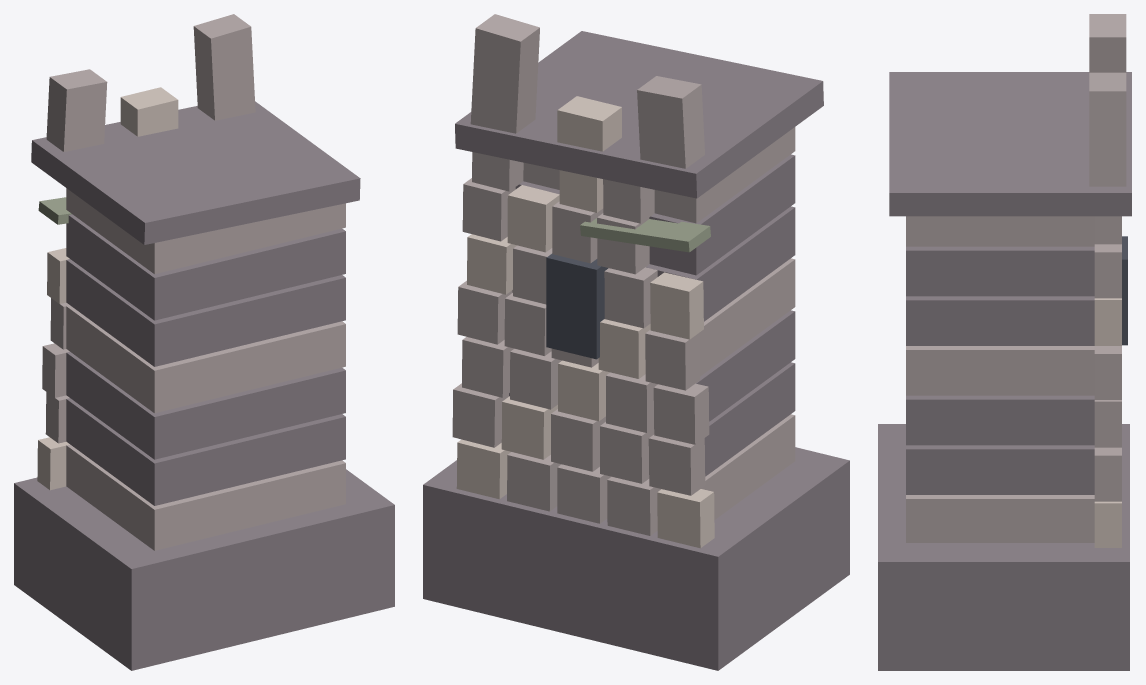
The model's file is menu_mist_ruin_tower.glb.
3 renders of one model, left to right at view 1: azimuth 30°, elevation 25°; view 2: azimuth 150°, elevation 25°; view 3: azimuth 270°, elevation 25°, orthographic. The views are drawn at different scales.
Parts seen in each view (by area): view 1: Moonpost Broken Mist Tower; view 2: Moonpost Broken Mist Tower; view 3: Moonpost Broken Mist Tower.
Part boxes in pixels (x1,y1,x2,y2): Moonpost Broken Mist Tower: [14, 14, 394, 670]; Moonpost Broken Mist Tower: [423, 14, 849, 670]; Moonpost Broken Mist Tower: [878, 14, 1131, 670].
Bounding box in the file's own units: 8.8 × 16.57 × 6.85.
